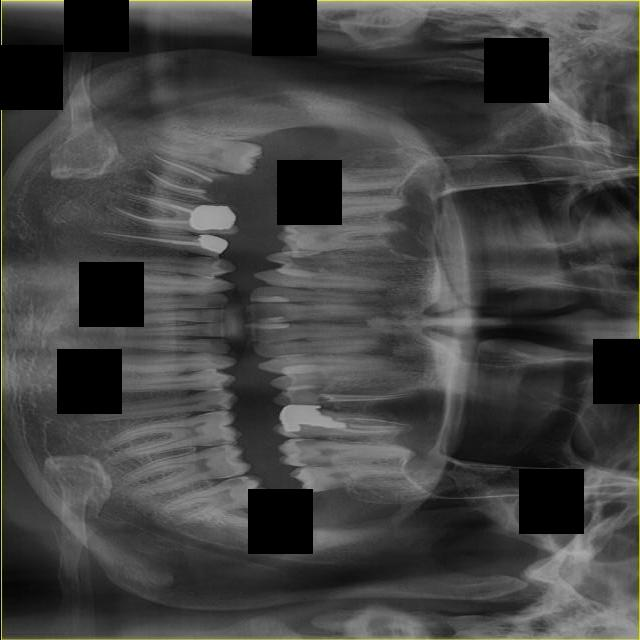71: (167, 202, 193, 214), (167, 239, 201, 247)
74: (151, 152, 212, 184), (143, 169, 206, 198), (111, 208, 189, 228), (332, 413, 408, 425), (125, 192, 173, 207), (102, 233, 173, 243), (318, 392, 414, 398), (331, 427, 401, 435), (322, 396, 414, 402), (346, 424, 408, 429)
NucleOSS Implant: (278, 401, 347, 432), (186, 203, 236, 232), (193, 230, 228, 256)
Sterngold Implant: (200, 177, 231, 203), (288, 254, 318, 271), (218, 475, 248, 489), (299, 457, 329, 467), (206, 438, 230, 447), (199, 256, 219, 265), (205, 405, 228, 412), (294, 439, 320, 445), (210, 446, 228, 453), (294, 432, 314, 438), (226, 472, 240, 478)
Straumann Implant: (285, 388, 322, 406), (246, 323, 290, 330), (251, 295, 291, 302), (250, 317, 288, 323)
